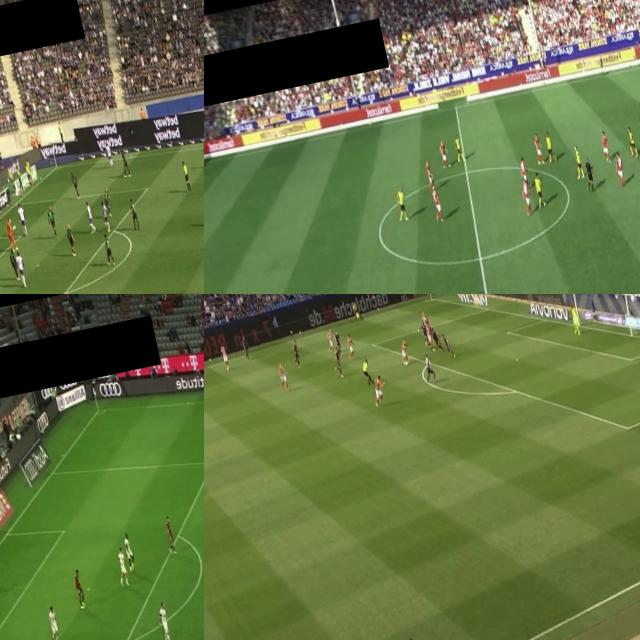ball: (404, 360, 408, 367)
player: (67, 564, 89, 614), (112, 544, 132, 587), (154, 599, 174, 640), (393, 181, 410, 228), (42, 600, 61, 640), (369, 371, 389, 409), (434, 132, 452, 170), (530, 170, 548, 208), (611, 150, 628, 188), (160, 516, 177, 554), (428, 182, 443, 224), (540, 128, 558, 162), (570, 142, 586, 178), (518, 179, 533, 216), (531, 131, 546, 166), (421, 157, 435, 194), (2, 216, 18, 248), (422, 352, 438, 384), (597, 128, 612, 162), (397, 336, 414, 366), (102, 230, 116, 265), (276, 359, 290, 394), (16, 202, 30, 236), (624, 122, 638, 156), (98, 201, 114, 230), (330, 346, 344, 379), (14, 252, 27, 287), (64, 224, 78, 256), (98, 188, 114, 216), (68, 171, 82, 202), (450, 130, 464, 161), (122, 532, 134, 568), (128, 197, 140, 232), (218, 338, 230, 373), (419, 310, 432, 342), (44, 204, 58, 233), (518, 154, 530, 186), (6, 247, 18, 278), (239, 328, 251, 359), (568, 303, 580, 334), (442, 332, 456, 358), (324, 324, 336, 354), (431, 325, 444, 351), (118, 150, 130, 178), (290, 340, 302, 367), (345, 330, 356, 359), (85, 202, 95, 228), (332, 327, 342, 352), (420, 321, 430, 346), (424, 321, 433, 347), (105, 144, 114, 168), (634, 96, 640, 123), (199, 140, 204, 167), (201, 192, 204, 225)
